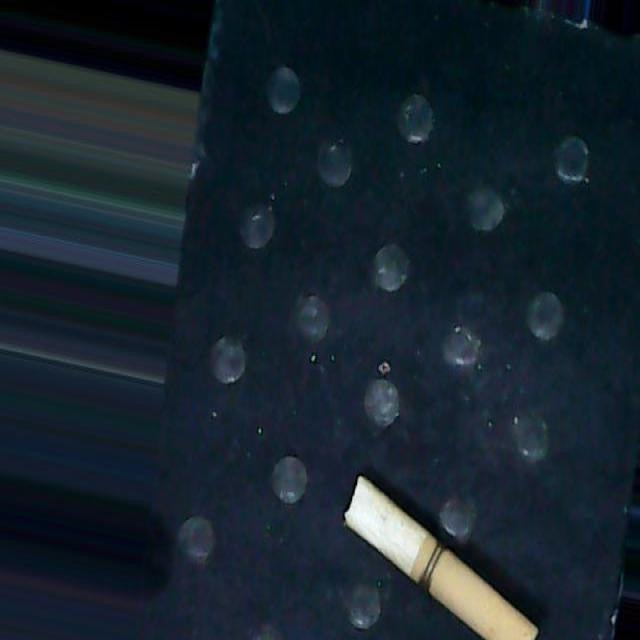-Other waste - cigarette butt-: (342, 471, 538, 640)
